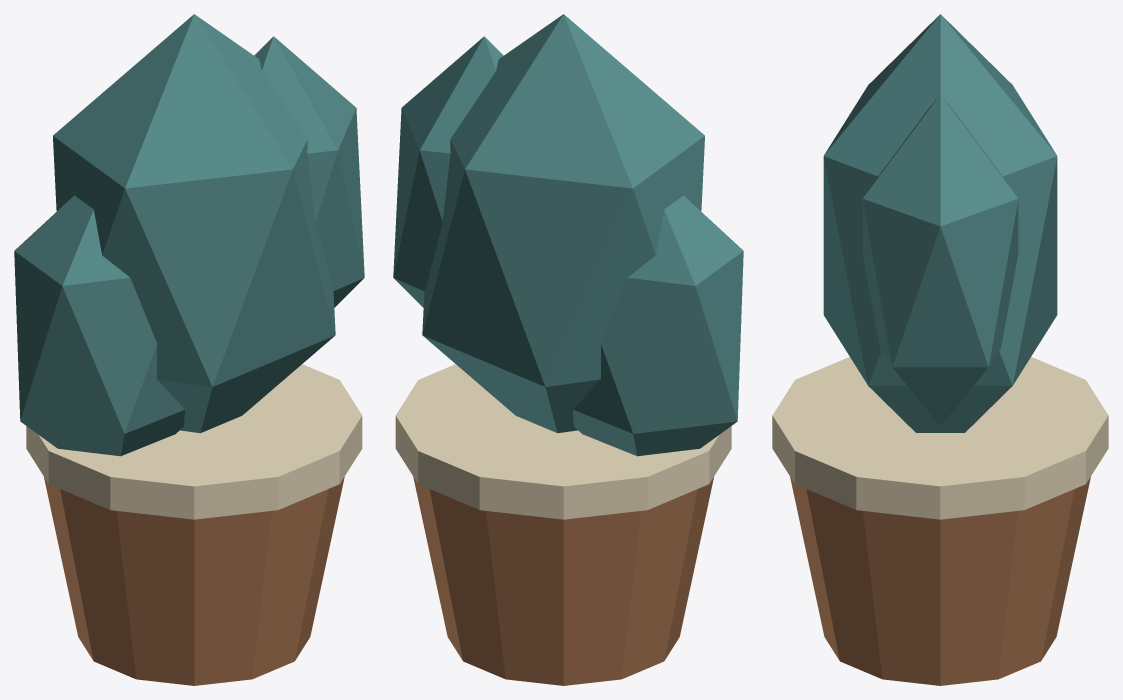
File: hsc3_planter.glb
3 views of the same model, side by side, from view 1: azimuth 30°, elevation 25°; view 2: azimuth 150°, elevation 25°; view 3: azimuth 270°, elevation 25° (orthographic).
Visible parts, largest first — view 1: hsc3_planter__hsc3-deep-teal, hsc3_planter__hsc3-roasted-copper, hsc3_planter__hsc3-cream-enamel; view 2: hsc3_planter__hsc3-deep-teal, hsc3_planter__hsc3-roasted-copper, hsc3_planter__hsc3-cream-enamel; view 3: hsc3_planter__hsc3-deep-teal, hsc3_planter__hsc3-roasted-copper, hsc3_planter__hsc3-cream-enamel.
Part boxes in pixels (x1,y1,x2,y2): hsc3_planter__hsc3-deep-teal: (14,14,364,456); hsc3_planter__hsc3-roasted-copper: (44,477,344,685); hsc3_planter__hsc3-cream-enamel: (26,364,362,519); hsc3_planter__hsc3-deep-teal: (393,14,743,456); hsc3_planter__hsc3-roasted-copper: (413,477,713,685); hsc3_planter__hsc3-cream-enamel: (395,364,731,519); hsc3_planter__hsc3-deep-teal: (823,14,1057,432); hsc3_planter__hsc3-roasted-copper: (790,477,1090,685); hsc3_planter__hsc3-cream-enamel: (772,357,1108,519).
Size of the model in its own units: 1.27 by 2.25 by 1.1.
